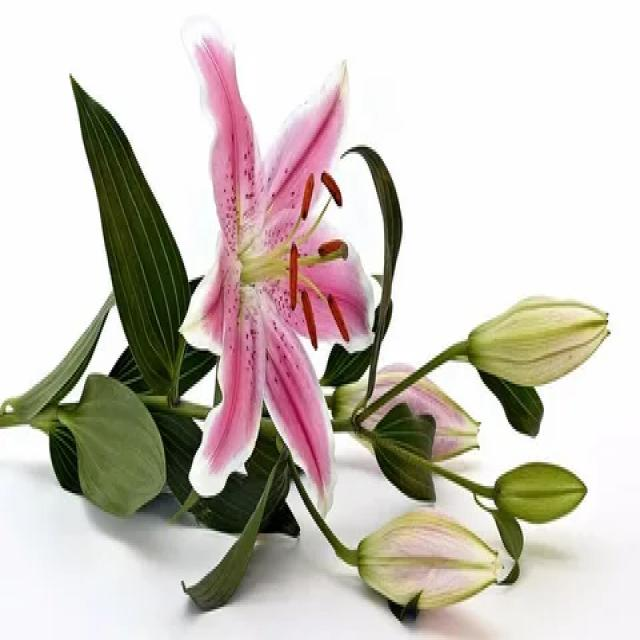lily: (173, 0, 390, 537)
